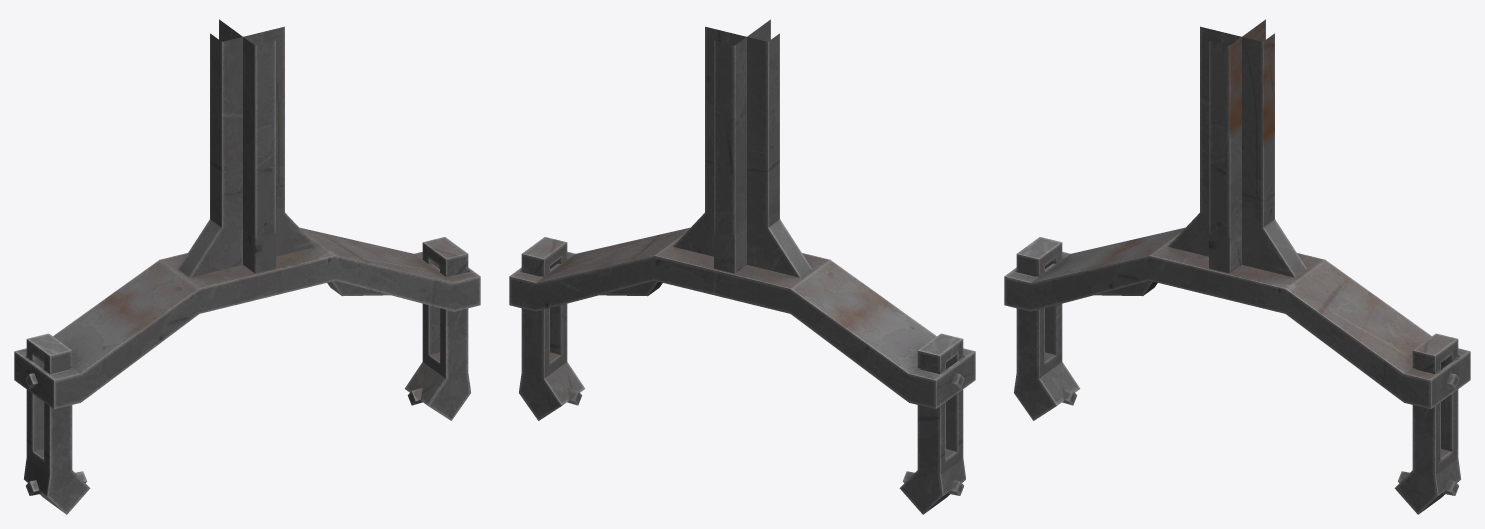
File: conveyor_to_conveyor_middle.glb
3 views of the same model, side by side, from view 1: azimuth 30°, elevation 25°; view 2: azimuth 150°, elevation 25°; view 3: azimuth 330°, elevation 25° (orthographic).
Parts seen in each view (by area): view 1: conveyor_to_conveyor_middle; view 2: conveyor_to_conveyor_middle; view 3: conveyor_to_conveyor_middle.
Boxes of the visible parts, x1,y1,x2,y2 form: conveyor_to_conveyor_middle: (14,19,480,514); conveyor_to_conveyor_middle: (509,19,975,514); conveyor_to_conveyor_middle: (1004,19,1470,514).
Bounding box in the file's own units: 1.07 × 1.01 × 0.1697.
Materials: 1 (1 with a texture image).
